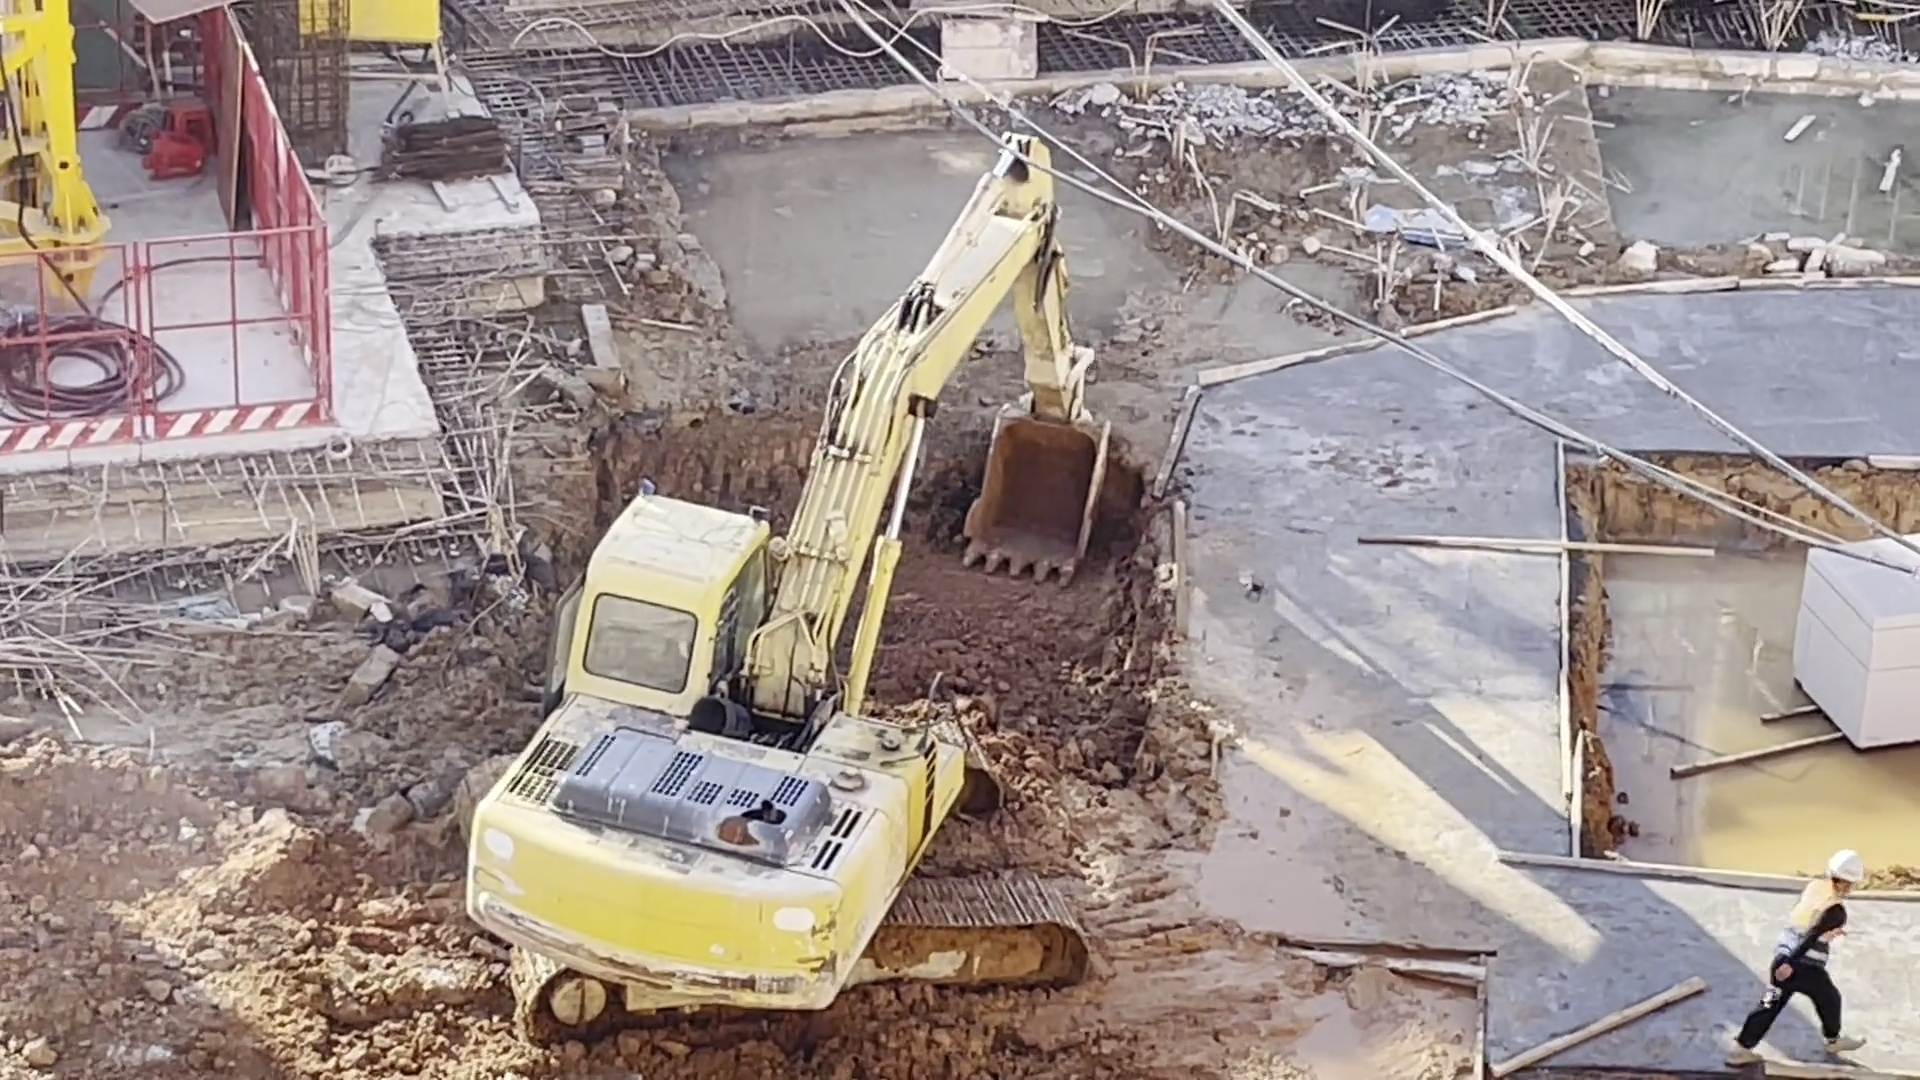brick: (1786, 585, 1920, 750)
ebox: (358, 1, 467, 115)
fence: (18, 226, 333, 449), (247, 42, 334, 430)
helmet: (1829, 849, 1870, 886)
person: (1730, 845, 1870, 1078)
vest: (1773, 879, 1840, 964)
